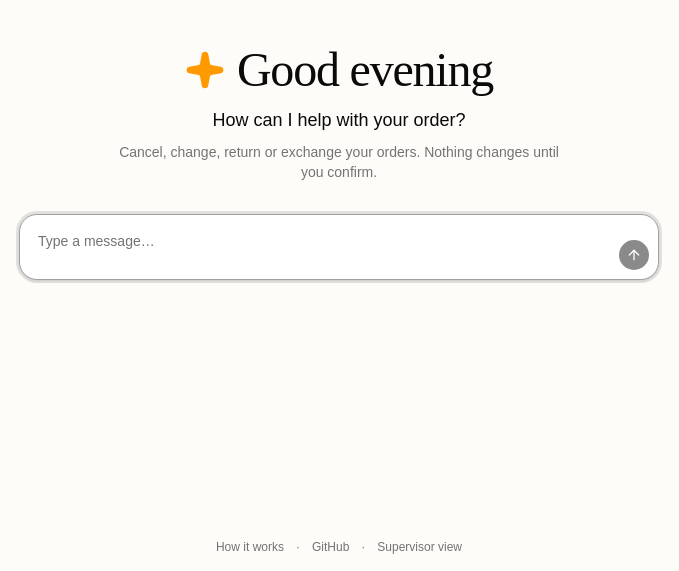
Test: ChatPage › keeps the message and says busy when a message is refused for capacity
Type "cancel my order" into the text box labelled "message" at (319, 247), box [28,223,610,271]
Then press Enter
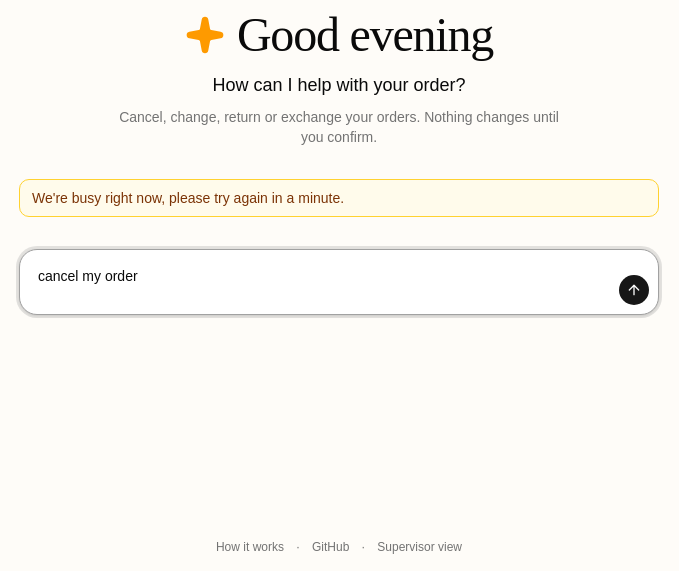
Expected: the text box named "message" is enabled, [28,258,610,306]
Expected: the text "We're busy right now, please try again in a minute." is shown, [19,179,659,217]
Expected: the text box named "message" holds "cancel my order", [28,258,610,306]
